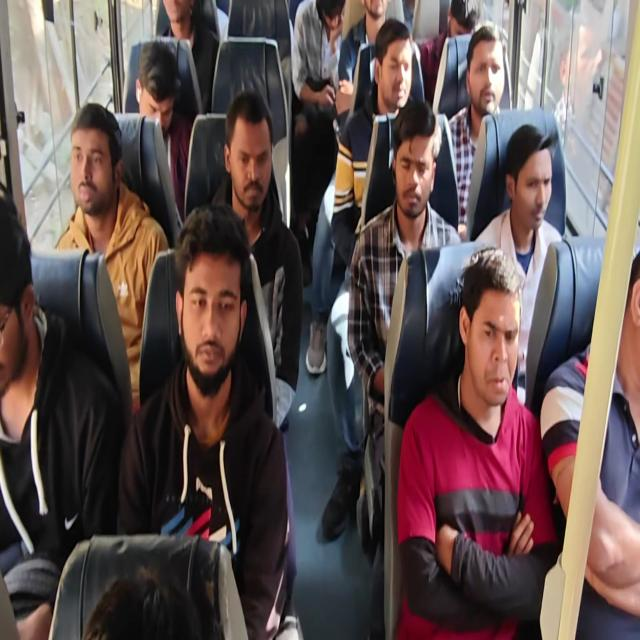person: (1, 1, 638, 638), (116, 201, 300, 638), (395, 246, 559, 638), (346, 99, 463, 637), (1, 198, 122, 638), (320, 18, 418, 542), (209, 89, 303, 605), (540, 248, 640, 638), (54, 102, 170, 414), (473, 122, 563, 400), (330, 18, 416, 268), (290, 0, 346, 282), (442, 22, 506, 236), (134, 39, 192, 225), (82, 565, 218, 639), (336, 0, 414, 124), (156, 0, 219, 114), (417, 0, 485, 105), (291, 0, 346, 128)
